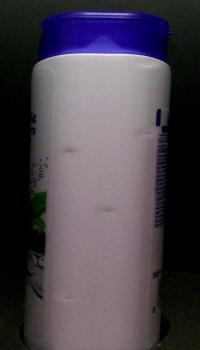dent_marginal: (55, 286, 87, 314), (47, 139, 88, 159), (129, 56, 171, 72), (94, 204, 128, 221), (134, 126, 162, 144)
